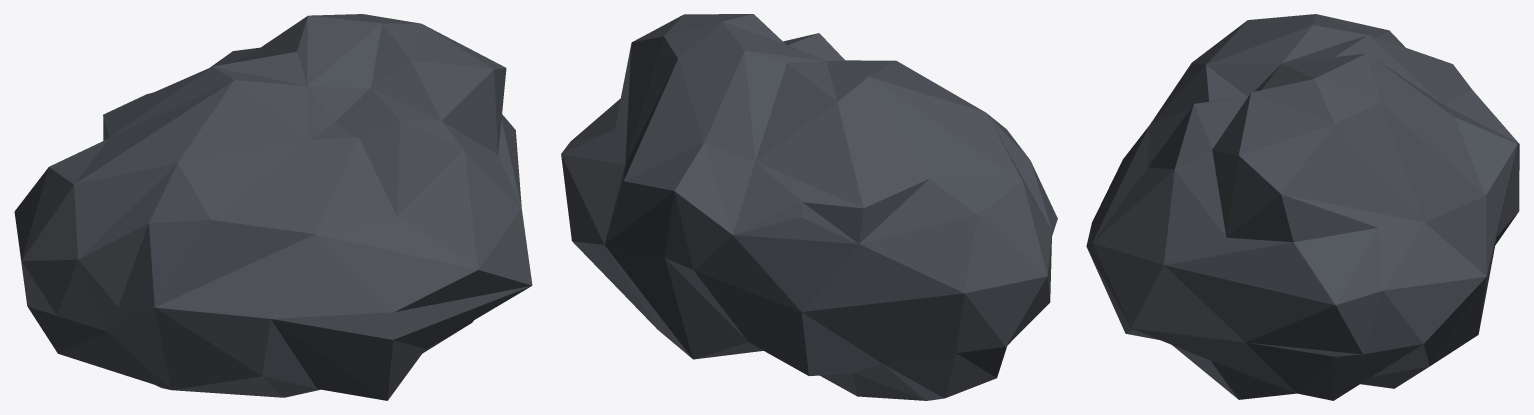
The model's file is Rock_Med_2.fbx.
3 views of the same model, side by side, from view 1: azimuth 30°, elevation 25°; view 2: azimuth 150°, elevation 25°; view 3: azimuth 270°, elevation 25° (orthographic). The views are drawn at different scales.
Visible parts, largest first — view 1: Group55283; view 2: Group55283; view 3: Group55283.
Part boxes in pixels (left/top/right/bottom): Group55283: left=14, top=14, right=532, bottom=400; Group55283: left=561, top=14, right=1057, bottom=400; Group55283: left=1086, top=14, right=1519, bottom=400.
Bounding box in the file's own units: 377 × 229 × 280.
